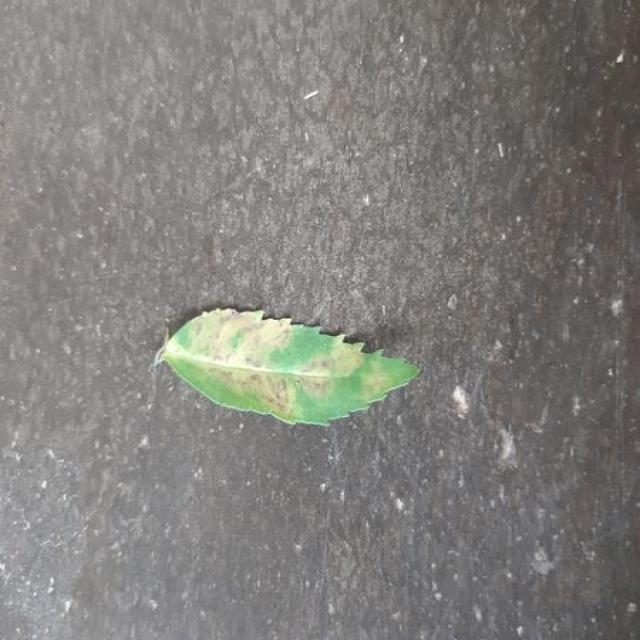leaf spot: (158, 309, 418, 424)
marigold: (158, 309, 418, 424)
